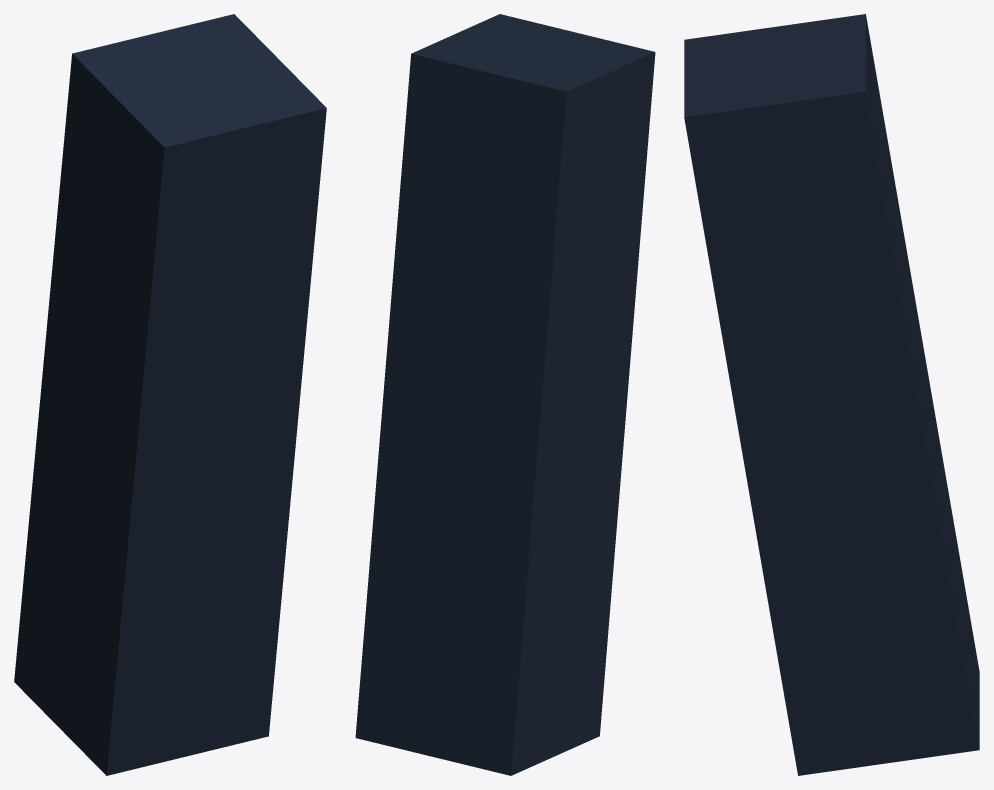
The model's file is rightlegpivot.glb.
The picture shows the model from 3 angles, left to right: view 1: azimuth 30°, elevation 25°; view 2: azimuth 150°, elevation 25°; view 3: azimuth 270°, elevation 25°; orthographic projection. The views are drawn at different scales.
Visible parts, largest first — view 1: RightLegPivot; view 2: RightLegPivot; view 3: RightLegPivot.
Boxes of the visible parts, x1,y1,x2,y2 form: RightLegPivot: (14,14,326,775); RightLegPivot: (355,14,655,775); RightLegPivot: (684,14,979,775).
Bounding box in the file's own units: 0.2 × 0.8213 × 0.3215.
